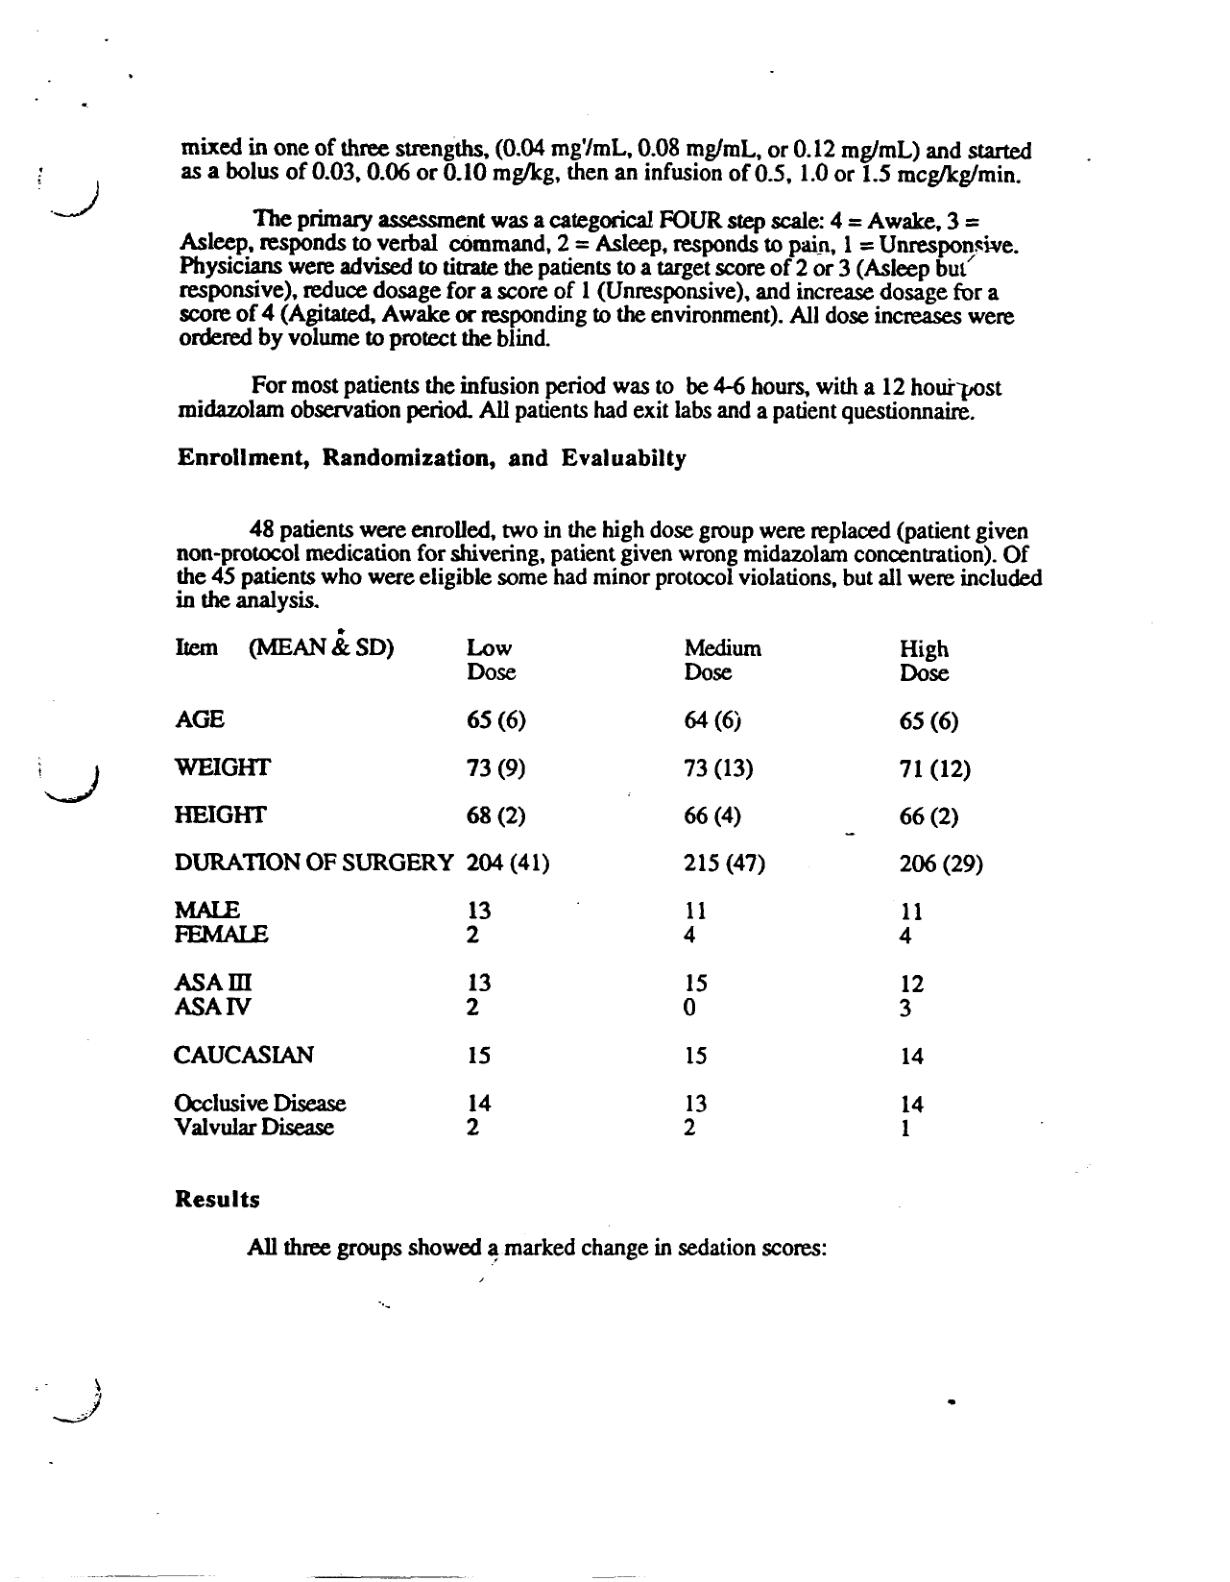nolines: (166, 633, 986, 1144)
